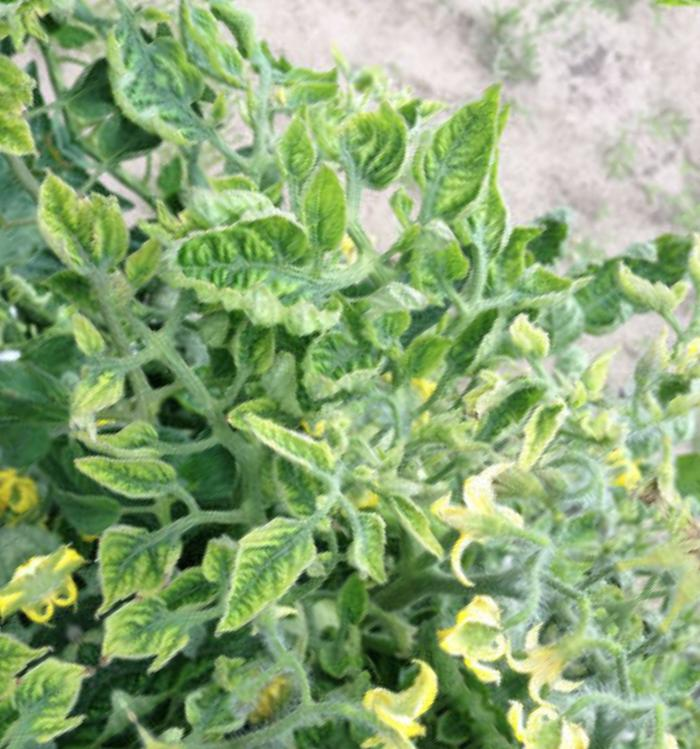Tomato leaf yellow virus: (129, 164, 367, 406), (376, 58, 553, 229), (174, 490, 351, 657), (0, 140, 154, 316), (77, 569, 232, 727), (248, 142, 385, 284), (267, 296, 404, 438), (62, 411, 190, 539), (69, 502, 197, 627), (420, 465, 540, 597)
